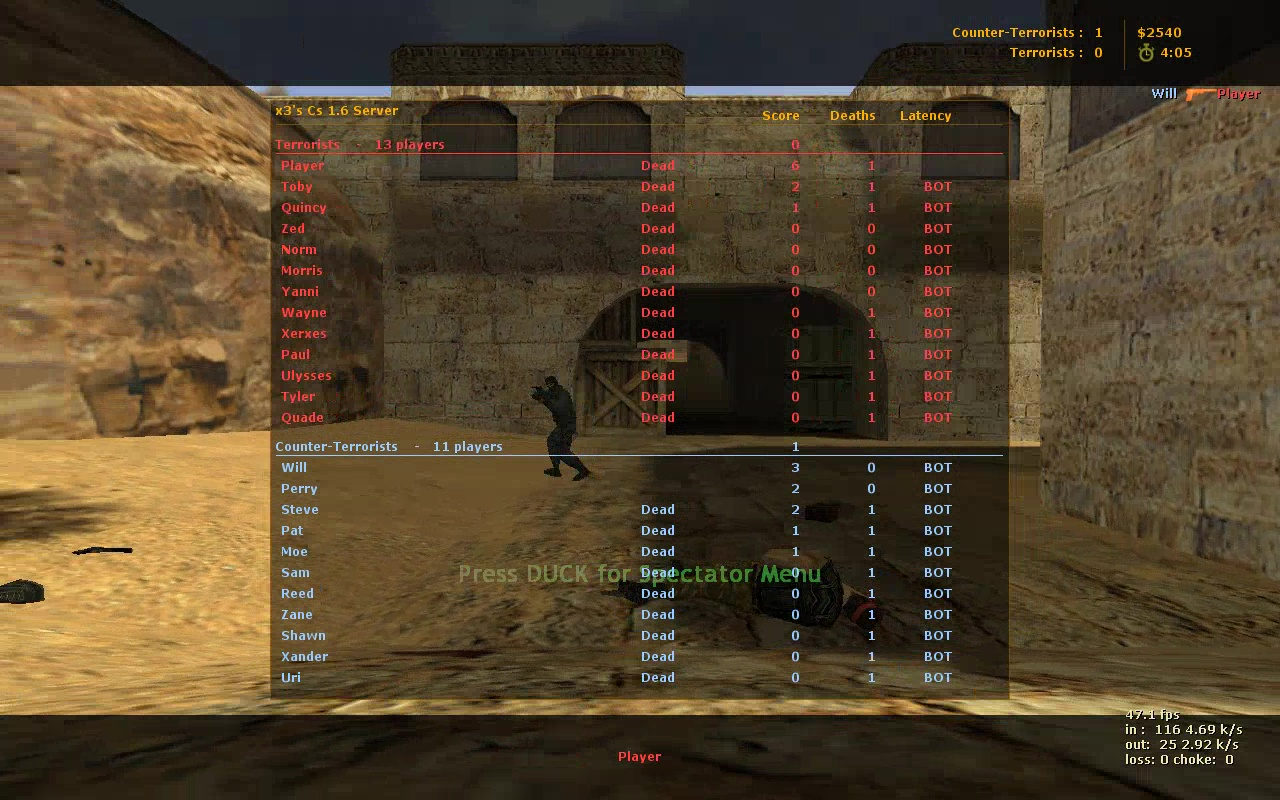ct: (530, 379, 592, 478)
dead: (620, 546, 889, 638)
